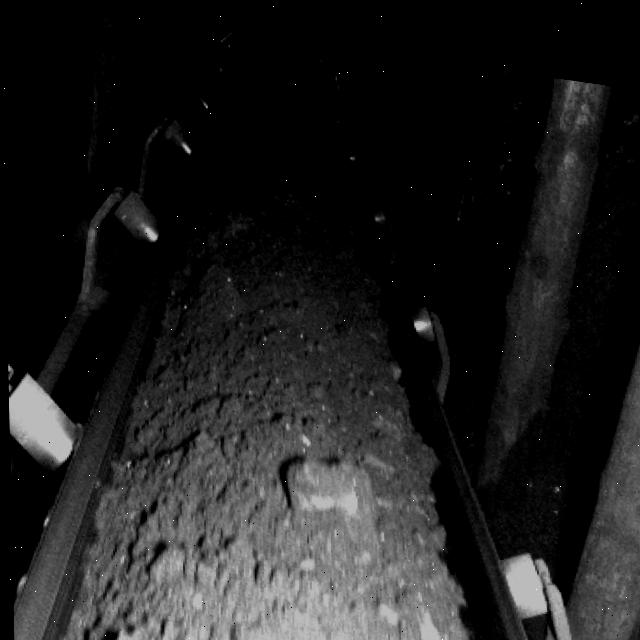large_sized_coal: (283, 448, 371, 561)
